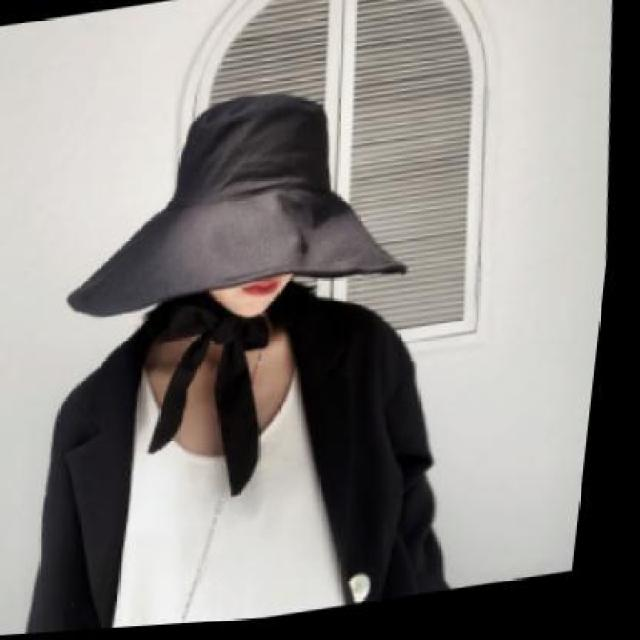hat: (54, 70, 435, 332)
